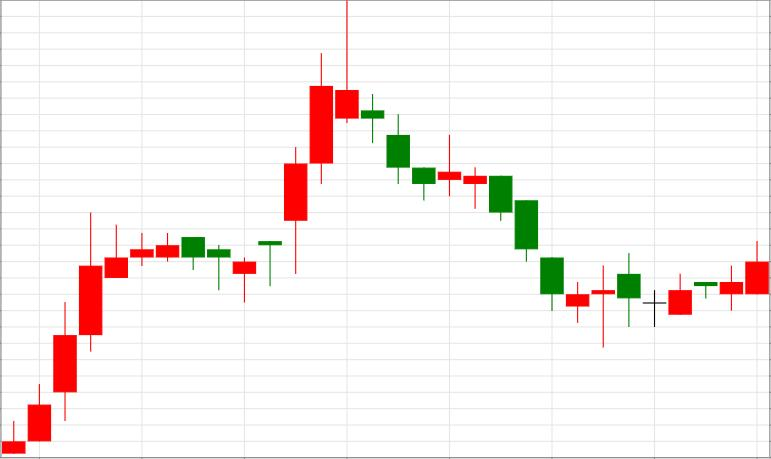shooting_star_fall: (233, 1, 358, 302)
